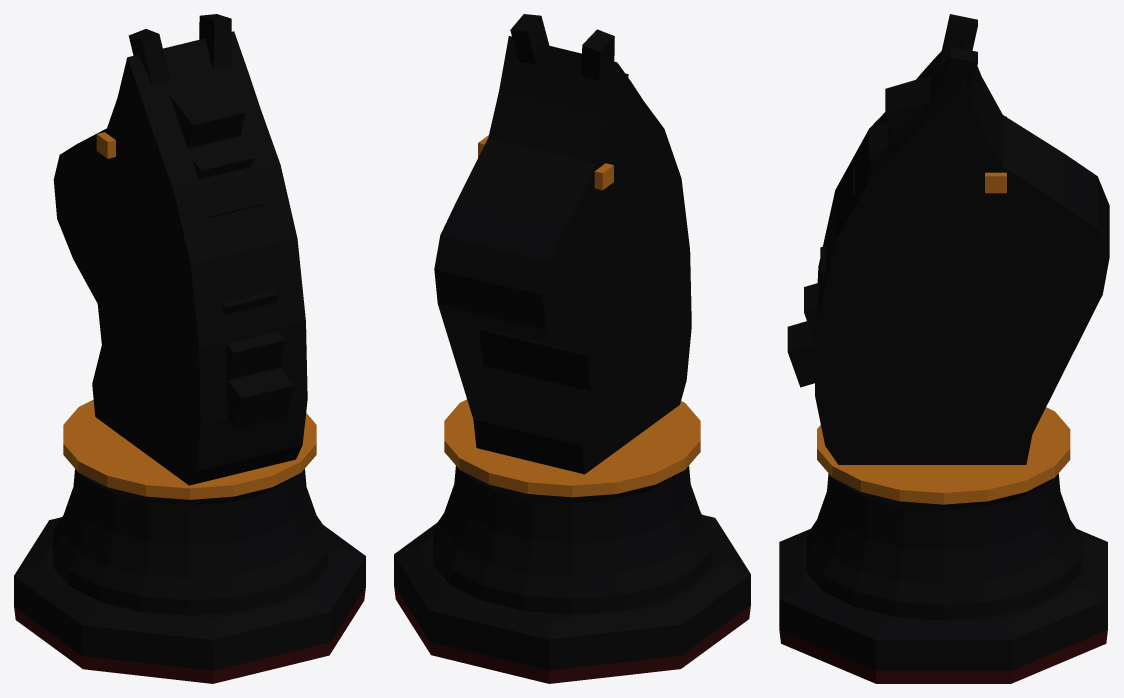
File: cozy_chess_black_knight.obj
3 renders of one model, left to right at view 1: azimuth 30°, elevation 25°; view 2: azimuth 150°, elevation 25°; view 3: azimuth 270°, elevation 25°, orthographic.
Visible parts, largest first — view 1: Chess_Black_Knight_Mesh; view 2: Chess_Black_Knight_Mesh; view 3: Chess_Black_Knight_Mesh.
Boxes of the visible parts, box(x1,y1,x2,y2) form: Chess_Black_Knight_Mesh: box(14, 14, 365, 683); Chess_Black_Knight_Mesh: box(394, 14, 750, 683); Chess_Black_Knight_Mesh: box(779, 14, 1109, 683).
Size of the model in its own units: 0.0407 by 0.0796 by 0.041.
